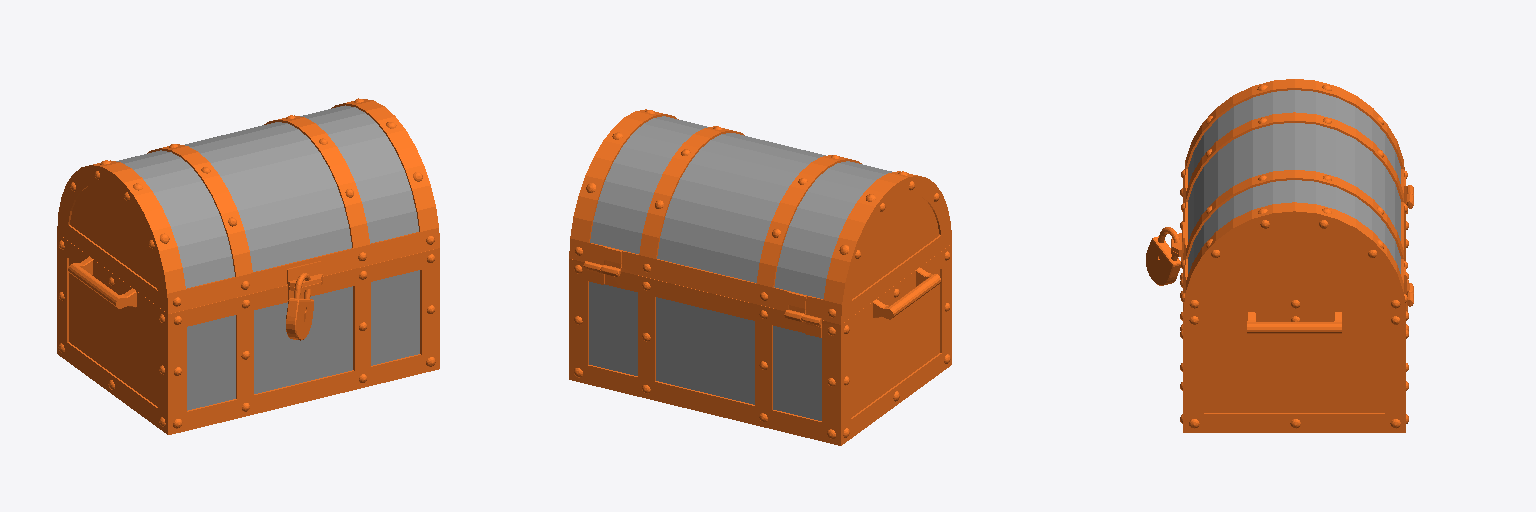
File: chest.obj
3 views of the same model, side by side, from view 1: azimuth 30°, elevation 25°; view 2: azimuth 150°, elevation 25°; view 3: azimuth 270°, elevation 25° (orthographic).
Visible parts, largest first — view 1: top_default.001, framebottom_default.001, frametop_default.001, chest_default.001, side_panels_default.001, rivets_default.001, lock_default.001; view 2: top_default.001, framebottom_default.001, frametop_default.001, chest_default.001, side_panels_default.001, rivets_default.001; view 3: side_panels_default.001, top_default.001, frametop_default.001, framebottom_default.001, rivets_default.001, lock_default.001.
Part boxes in pixels (x1,y1,x2,y2): top_default.001: (116,105,418,288); framebottom_default.001: (57,233,439,434); frametop_default.001: (57,99,439,313); chest_default.001: (187,270,419,410); side_panels_default.001: (69,184,157,406); rivets_default.001: (58,98,435,428); lock_default.001: (286,273,313,340); top_default.001: (590,116,891,298); framebottom_default.001: (569,244,951,445); frametop_default.001: (569,109,951,324); chest_default.001: (589,282,821,420); side_panels_default.001: (851,195,939,417); rivets_default.001: (574,110,950,438); side_panels_default.001: (1204,229,1384,412); top_default.001: (1188,90,1400,273); frametop_default.001: (1171,79,1413,311); framebottom_default.001: (1171,185,1413,432); rivets_default.001: (1180,85,1408,428); lock_default.001: (1146,227,1180,285).
Bounding box in the file's own units: 1.43 × 0.9676 × 1.06.